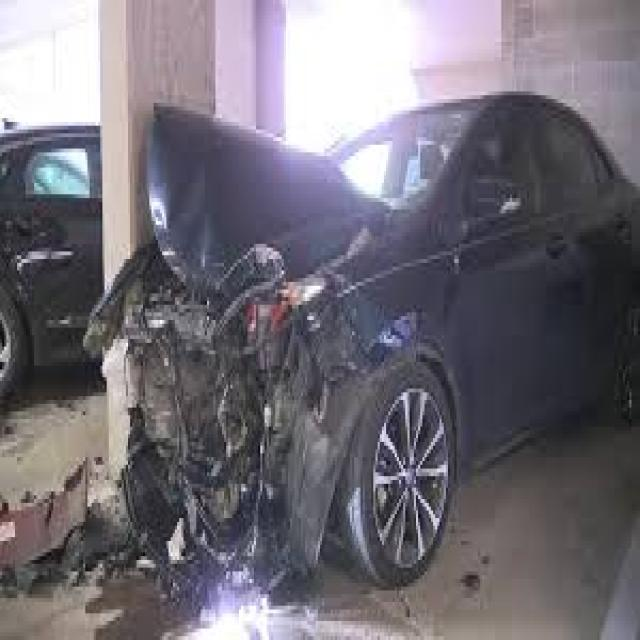Severe Damage: (103, 215, 413, 582)
